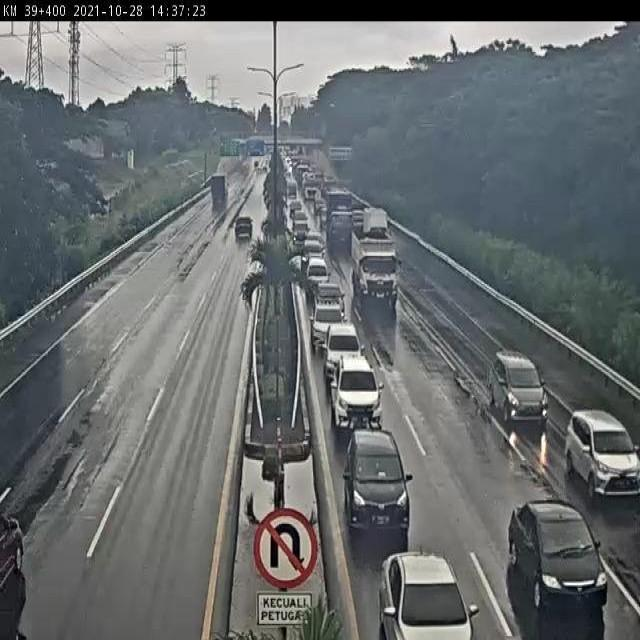big truck: (353, 224, 400, 303)
car: (508, 496, 610, 613), (376, 544, 477, 640), (344, 433, 412, 539), (566, 408, 640, 501), (486, 348, 551, 424), (329, 359, 386, 432), (322, 318, 361, 382), (311, 297, 345, 352), (314, 281, 346, 319)
